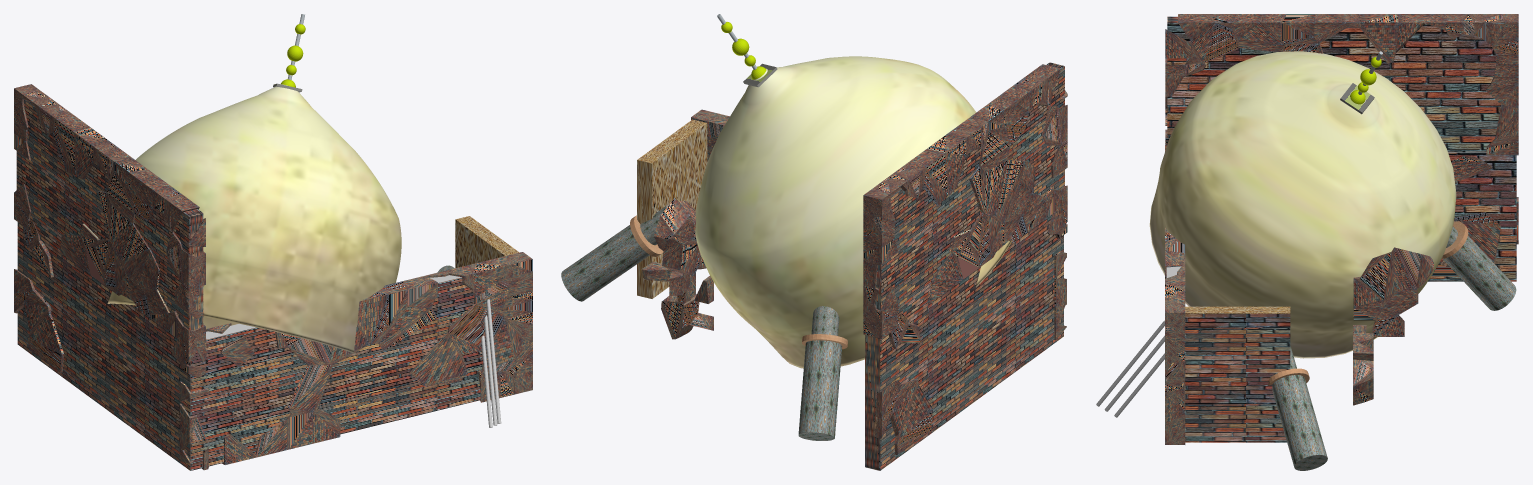
The model's file is Persian_ArmyBuilding_Semidemolished.fbx.
3 views of the same model, side by side, from view 1: azimuth 30°, elevation 25°; view 2: azimuth 150°, elevation 25°; view 3: azimuth 270°, elevation 25° (orthographic). The views are drawn at different scales.
Parts seen in each view (by area): view 1: cupula2.000, Cube, Cube.004, Cube.008, Cube.005, Cube_cell.120, Cube_cell.177, Cube_cell.155, Cube.008_cell.021, Cube_cell.174, Cube_cell.170, Cube.008_cell.010 (+23 smaller); view 2: cupula2.000, Cube.004, Cube.008, Cube.005, Cylinder, Cylinder.157, Cube.008_cell.003, Cube.008_cell.021, Cube.008_cell.010, Cube_cell.002, Cube.008_cell.076, Cube.008_cell.048 (+13 smaller); view 3: cupula2.000, Cube.008, Cube.005, Cube.004, Cylinder.157, Cylinder, Cube.008_cell.003, Cube.008_cell.076, Cube.008_cell.067, Cube.008_cell.073, Cube.008_cell.005, Cube.008_cell.065 (+16 smaller).
Part boxes in pixels (x1,y1,x2,y2): cupula2.000: (107,14,401,353); Cube: (190,275,486,470); Cube.004: (17,222,190,470); Cube.008: (16,99,203,330); Cube.005: (455,216,519,268); Cube_cell.120: (409,332,467,385); Cube_cell.177: (448,304,503,354); Cube_cell.155: (288,363,332,413); Cube.008_cell.021: (28,313,64,372); Cube_cell.174: (379,306,436,350); Cube_cell.170: (481,318,522,371); Cube.008_cell.010: (53,118,89,174); cupula2.000: (695,14,1011,368); Cube.004: (865,214,1063,470); Cube.008: (875,62,1064,316); Cube.005: (637,119,707,298); Cylinder: (798,340,842,440); Cylinder.157: (561,225,649,301); Cube.008_cell.003: (654,198,693,250); Cube.008_cell.021: (894,385,932,454); Cube.008_cell.010: (913,149,947,206); Cube_cell.002: (661,294,699,339); Cube.008_cell.076: (926,134,966,195); Cube.008_cell.048: (996,159,1025,223); cupula2.000: (1149,51,1456,358); Cube.008: (1167,16,1500,152); Cube.005: (1171,306,1290,442); Cube.004: (1428,152,1516,281); Cylinder.157: (1272,375,1327,470); Cylinder: (1443,235,1516,310); Cube.008_cell.003: (1391,247,1433,291); Cube.008_cell.076: (1358,14,1398,63); Cube.008_cell.067: (1191,22,1238,62); Cube.008_cell.073: (1454,212,1500,262); Cube.008_cell.005: (1360,252,1394,299); Cube.008_cell.065: (1238,21,1283,51).
Size of the model in its own units: 1229 by 968 by 1095.
